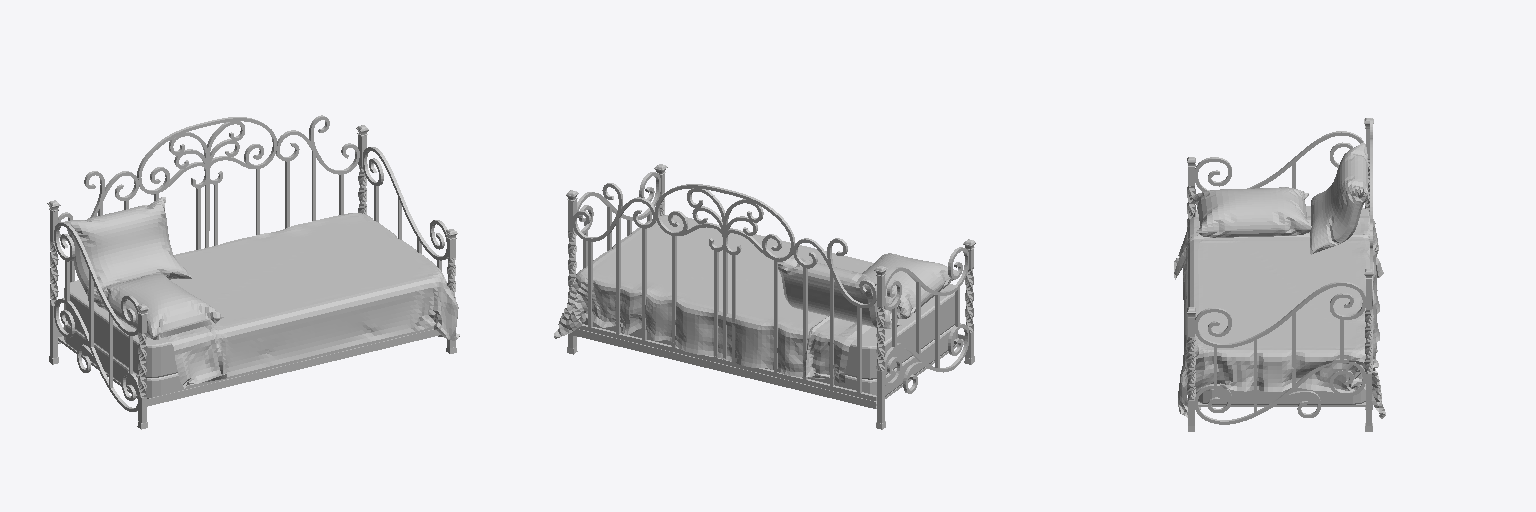
File: Day Bed.obj
The picture shows the model from 3 angles: view 1: azimuth 30°, elevation 25°; view 2: azimuth 150°, elevation 25°; view 3: azimuth 270°, elevation 25°; orthographic projection.
Parts seen in each view (by area): view 1: Day_Bed; view 2: Day_Bed; view 3: Day_Bed.
Part boxes in pixels (bbox=[...]): Day_Bed: bbox=[47, 115, 459, 429]; Day_Bed: bbox=[554, 164, 975, 429]; Day_Bed: bbox=[1174, 118, 1385, 431].
Size of the model in its own units: 2.05 by 1.22 by 1.17.